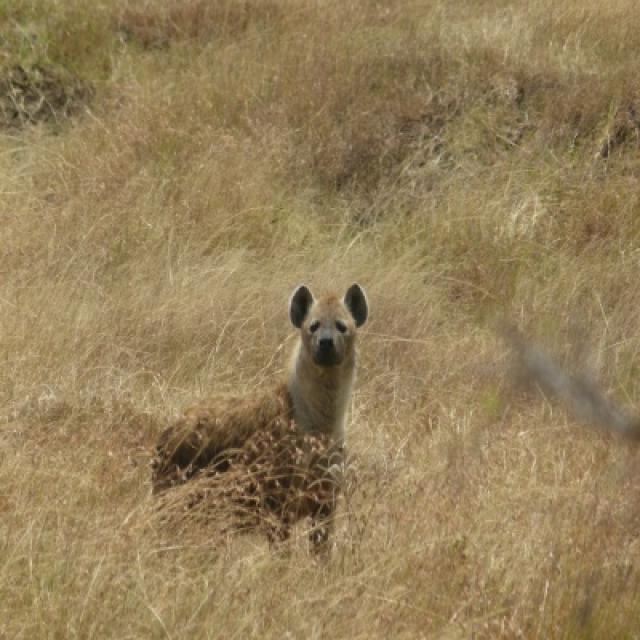hyena: (285, 285, 370, 477)
